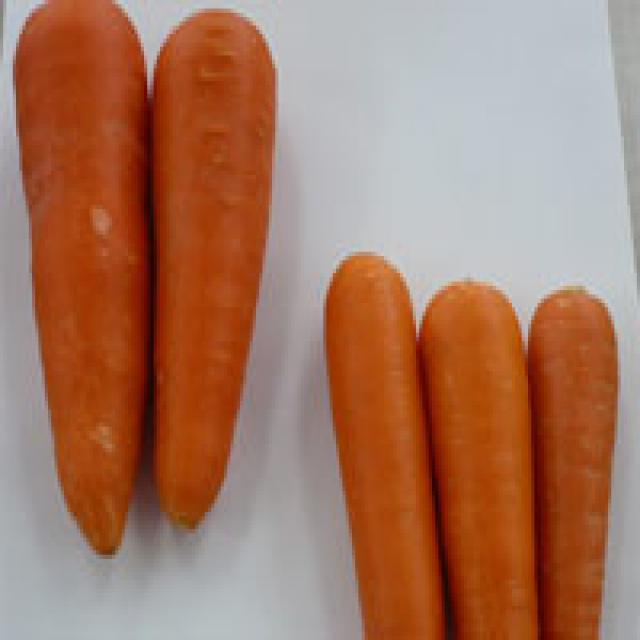Carrot: (8, 0, 154, 550), (148, 10, 279, 526), (315, 253, 456, 640), (415, 276, 538, 640), (531, 286, 621, 640)
